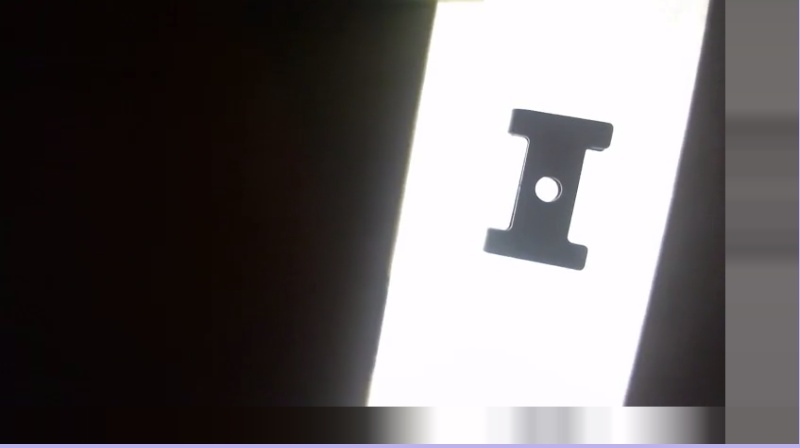O002: (482, 103, 616, 272)
